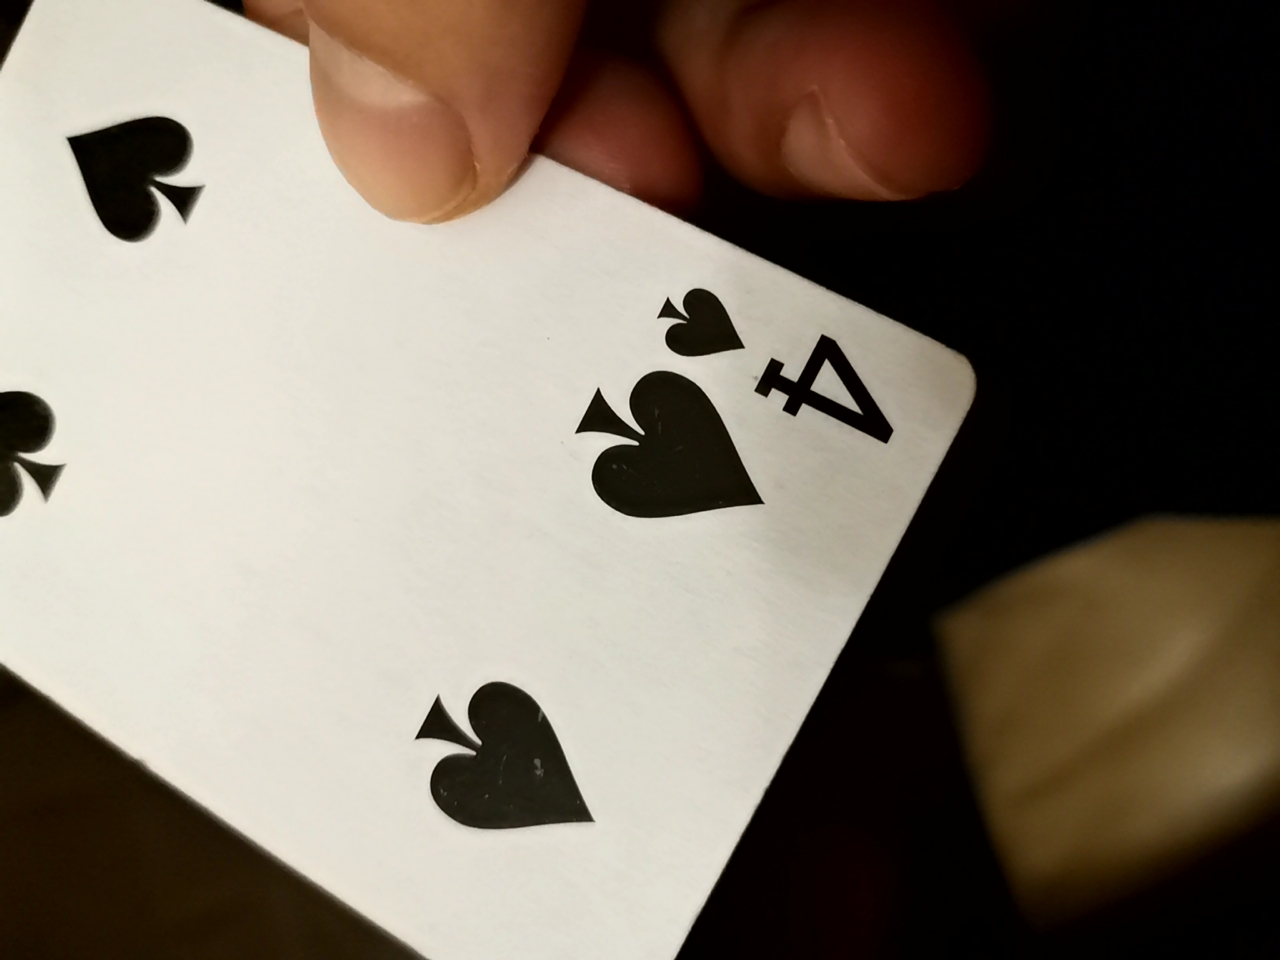ht 4: (1, 16, 990, 959)
